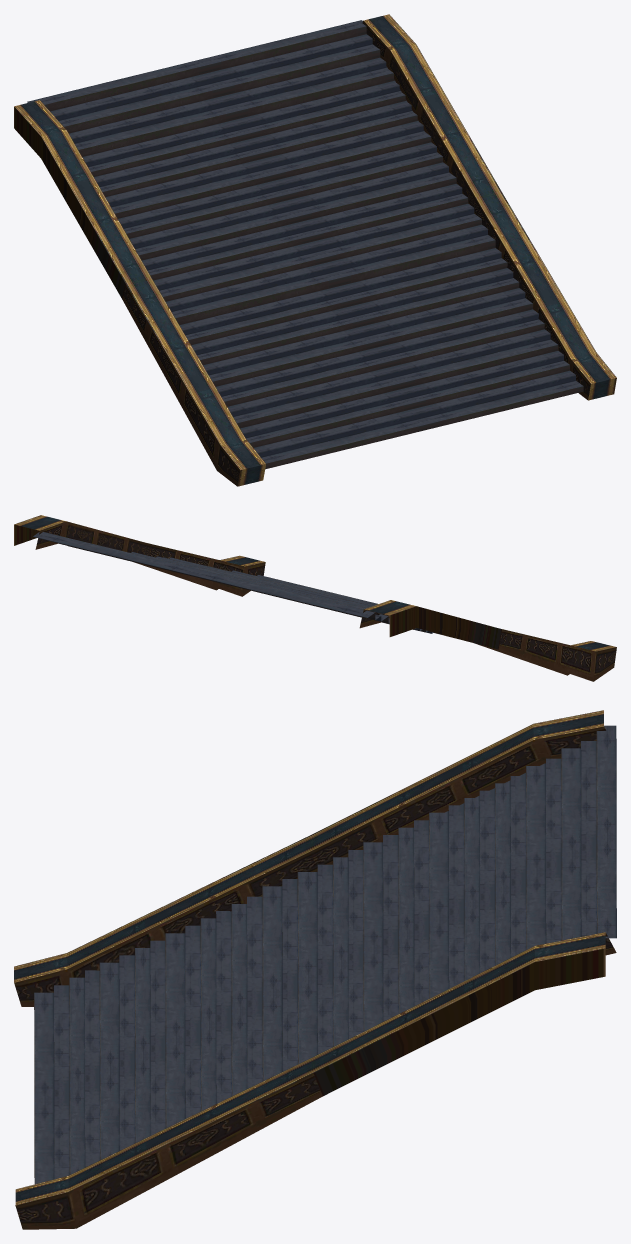
File: Yland2_lt_01 Yland2.FBX
3 views of the same model, one above another, from view 1: azimuth 30°, elevation 25°; view 2: azimuth 150°, elevation 25°; view 3: azimuth 270°, elevation 25° (orthographic). The views are drawn at different scales.
Parts seen in each view (by area): view 1: Yland2_lt_01 Yland2; view 2: Yland2_lt_01 Yland2; view 3: Yland2_lt_01 Yland2.
Boxes of the visible parts, x1,y1,x2,y2 form: Yland2_lt_01 Yland2: [14, 14, 616, 486]; Yland2_lt_01 Yland2: [14, 515, 616, 681]; Yland2_lt_01 Yland2: [14, 710, 616, 1229].
Bounding box in the file's own units: 9.21 × 5.04 × 9.81.
